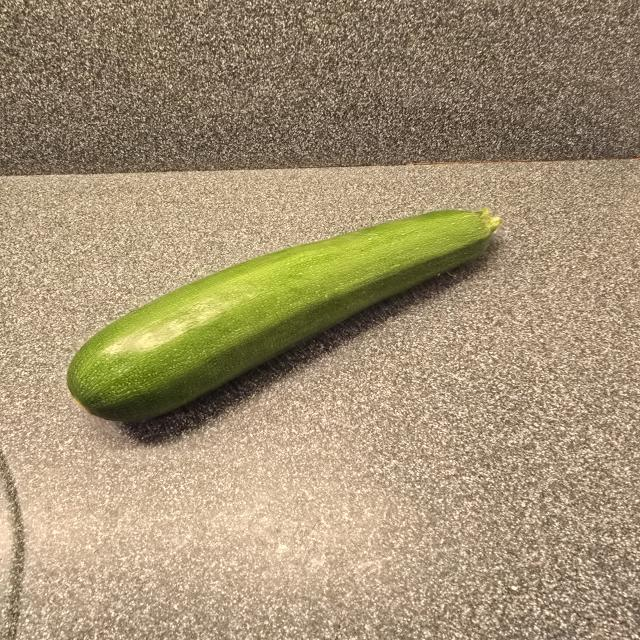Courgette: (67, 209, 502, 422)
